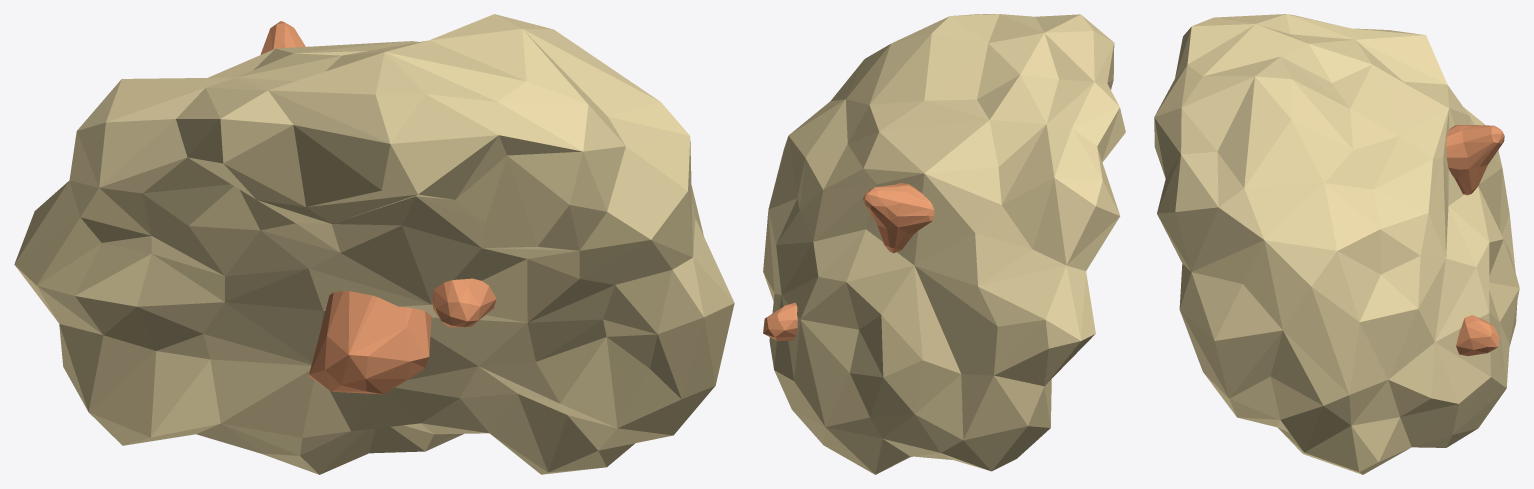
The model's file is StoneOre (10).fbx.
3 renders of one model, left to right at view 1: azimuth 30°, elevation 25°; view 2: azimuth 150°, elevation 25°; view 3: azimuth 270°, elevation 25°, orthographic. The views are drawn at different scales.
Parts seen in each view (by area): view 1: Asteroid297; view 2: Asteroid297; view 3: Asteroid297.
Boxes of the visible parts, x1=… form: Asteroid297: x1=14, y1=14, x2=734, y2=474; Asteroid297: x1=763, y1=14, x2=1125, y2=474; Asteroid297: x1=1154, y1=14, x2=1519, y2=474.
Size of the model in its own units: 475 by 440 by 396.
